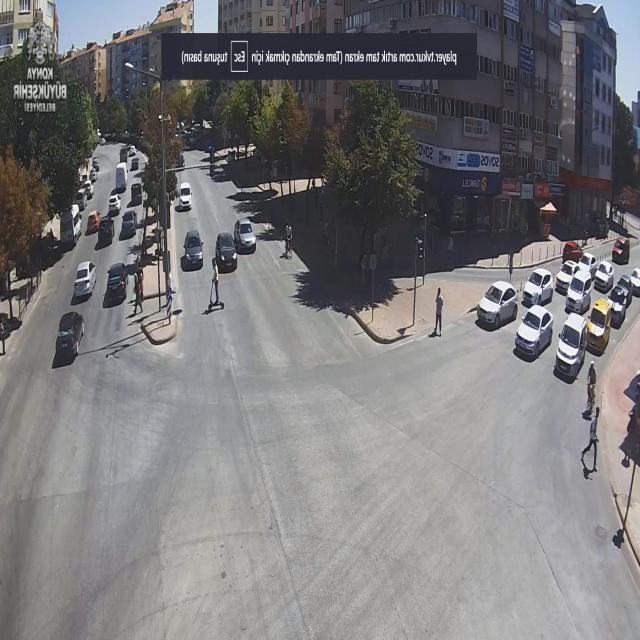Car: (555, 313, 591, 375), (475, 280, 520, 329), (516, 305, 554, 357), (55, 311, 85, 360), (586, 299, 613, 352), (565, 272, 594, 314), (522, 268, 554, 306), (607, 279, 632, 322), (215, 232, 238, 271), (554, 260, 580, 294), (105, 262, 128, 300), (183, 230, 204, 268), (74, 261, 96, 297), (233, 218, 256, 252), (593, 260, 615, 292), (612, 236, 630, 265), (120, 210, 138, 238), (578, 252, 598, 276), (96, 216, 115, 241), (178, 182, 192, 209), (108, 193, 122, 213)
Van: (58, 204, 84, 248), (114, 162, 130, 192)
